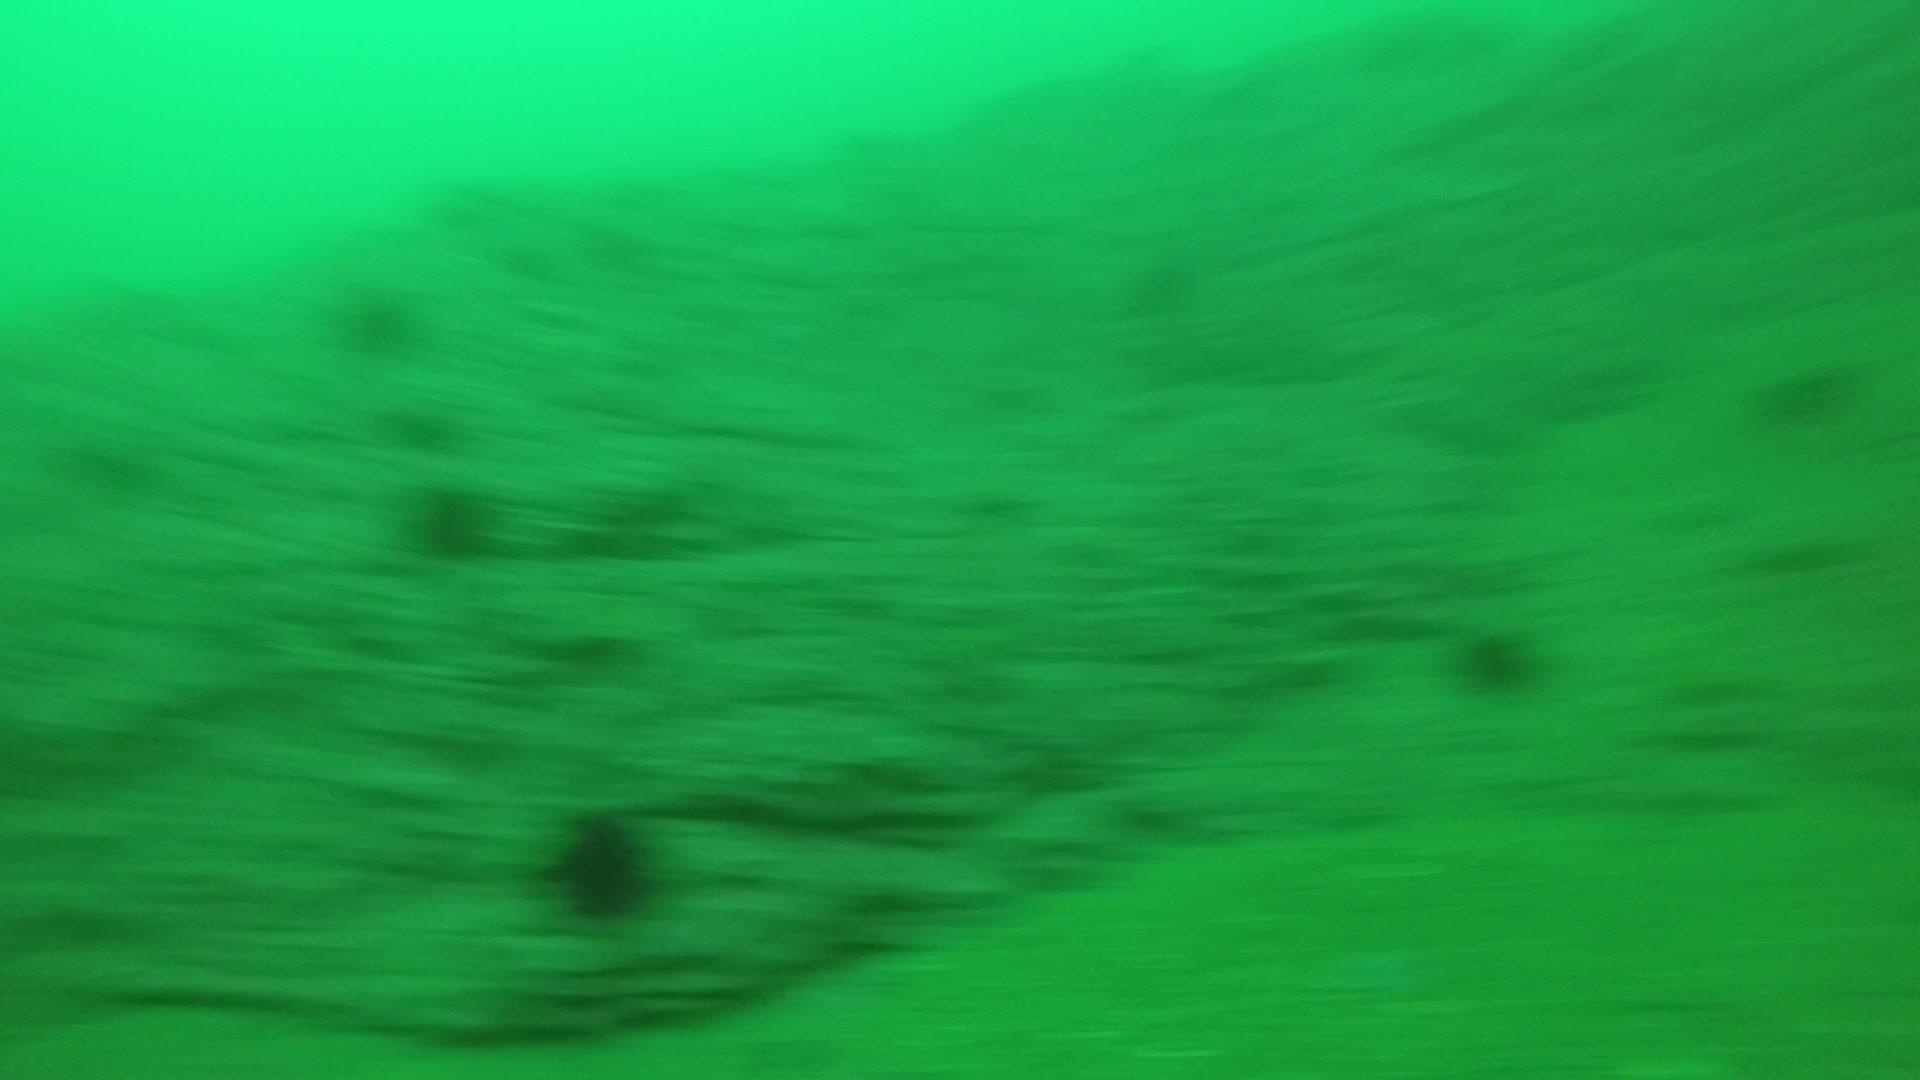echinus: (539, 803, 665, 928), (1746, 345, 1866, 433), (400, 473, 508, 567), (1444, 615, 1549, 702), (324, 272, 425, 359)
